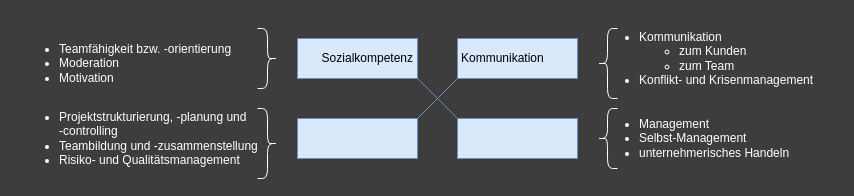
The diagram is 854 pixels wide and 196 high, and some of its shapes have lost their labels. The centre of each missing label's shape, as x and y in pixels:
"Führungskompetenz" belongs at [517,138].
"Methodenkompetenz" belongs at [357,138].
